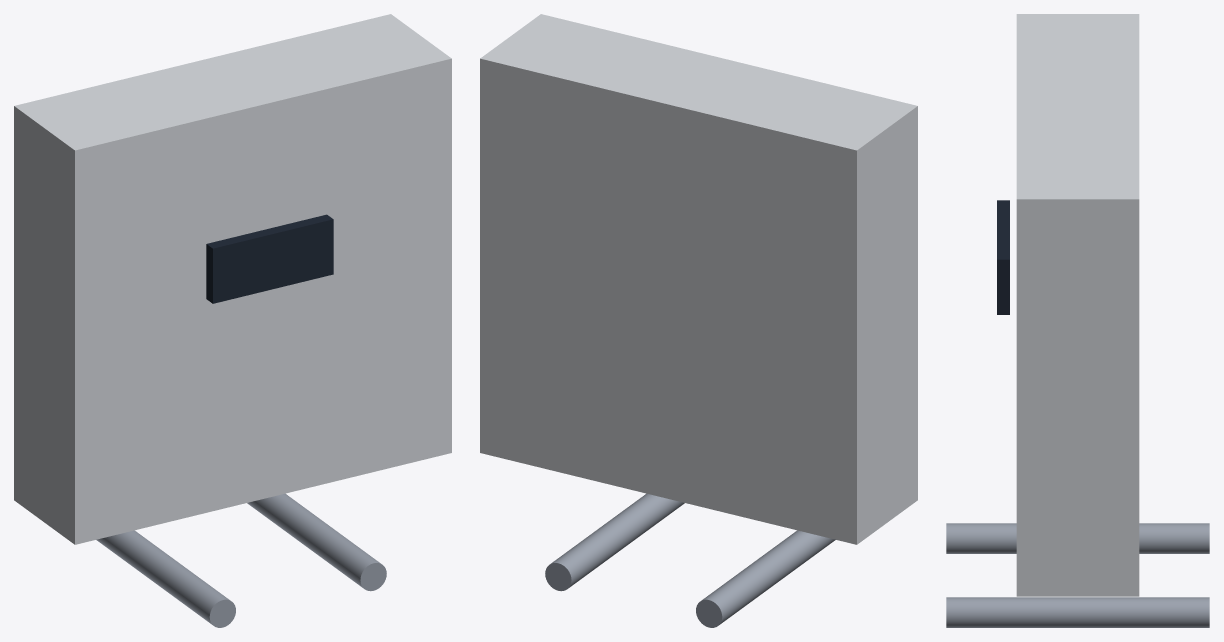
File: boiler.glb
3 renders of one model, left to right at view 1: azimuth 30°, elevation 25°; view 2: azimuth 150°, elevation 25°; view 3: azimuth 270°, elevation 25°, orthographic.
Parts seen in each view (by area): view 1: boiler; view 2: boiler; view 3: boiler.
Part boxes in pixels (x1,y1,x2,y2): boiler: [14, 14, 451, 627]; boiler: [480, 14, 917, 627]; boiler: [946, 14, 1209, 627].
Bounding box in the file's own units: 1 × 1.22 × 0.6.
